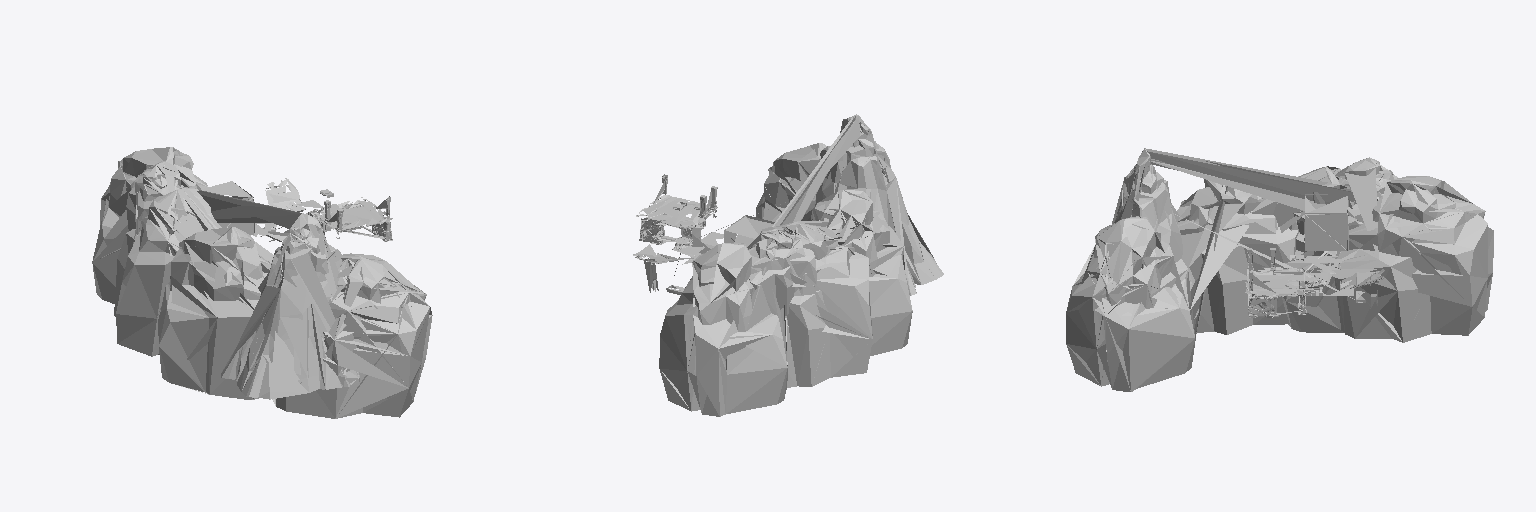
File: cellRuins_BeaconTower_Proxy-sharedassets3.assets-643.obj
3 views of the same model, side by side, from view 1: azimuth 30°, elevation 25°; view 2: azimuth 150°, elevation 25°; view 3: azimuth 270°, elevation 25° (orthographic).
Parts seen in each view (by area): view 1: cellRuins_BeaconTower_Proxy_5, cellRuins_BeaconTower_Proxy_0, cellRuins_BeaconTower_Proxy_3, cellRuins_BeaconTower_Proxy_4, cellRuins_BeaconTower_Proxy_1; view 2: cellRuins_BeaconTower_Proxy_5, cellRuins_BeaconTower_Proxy_3, cellRuins_BeaconTower_Proxy_0, cellRuins_BeaconTower_Proxy_1, cellRuins_BeaconTower_Proxy_4; view 3: cellRuins_BeaconTower_Proxy_5, cellRuins_BeaconTower_Proxy_0, cellRuins_BeaconTower_Proxy_3, cellRuins_BeaconTower_Proxy_1, cellRuins_BeaconTower_Proxy_4, cellRuins_BeaconTower_Proxy_2.
Part boxes in pixels (left/top/right/bottom): cellRuins_BeaconTower_Proxy_5: left=93, top=147, right=431, bottom=417; cellRuins_BeaconTower_Proxy_0: left=92, top=161, right=414, bottom=399; cellRuins_BeaconTower_Proxy_3: left=92, top=147, right=432, bottom=418; cellRuins_BeaconTower_Proxy_4: left=275, top=259, right=429, bottom=418; cellRuins_BeaconTower_Proxy_1: left=179, top=227, right=431, bottom=416; cellRuins_BeaconTower_Proxy_5: left=659, top=114, right=943, bottom=413; cellRuins_BeaconTower_Proxy_3: left=641, top=141, right=923, bottom=416; cellRuins_BeaconTower_Proxy_0: left=633, top=115, right=933, bottom=402; cellRuins_BeaconTower_Proxy_1: left=756, top=153, right=885, bottom=244; cellRuins_BeaconTower_Proxy_4: left=757, top=159, right=815, bottom=221; cellRuins_BeaconTower_Proxy_5: left=1066, top=150, right=1493, bottom=391; cellRuins_BeaconTower_Proxy_0: left=1097, top=148, right=1419, bottom=342; cellRuins_BeaconTower_Proxy_3: left=1066, top=160, right=1492, bottom=391; cellRuins_BeaconTower_Proxy_1: left=1066, top=179, right=1260, bottom=386; cellRuins_BeaconTower_Proxy_4: left=1066, top=232, right=1194, bottom=391; cellRuins_BeaconTower_Proxy_2: left=1088, top=217, right=1163, bottom=328.
Size of the model in its own units: 161 by 122 by 243.